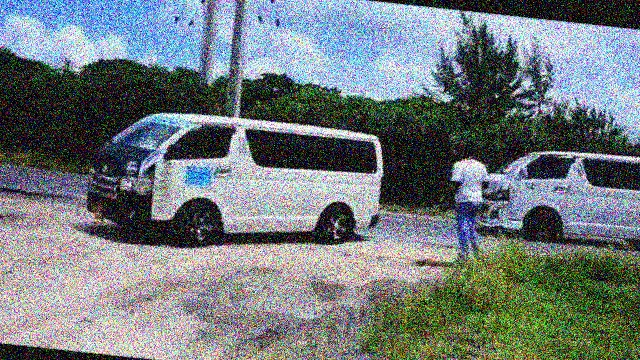van: (81, 101, 388, 260), (463, 135, 640, 251)
